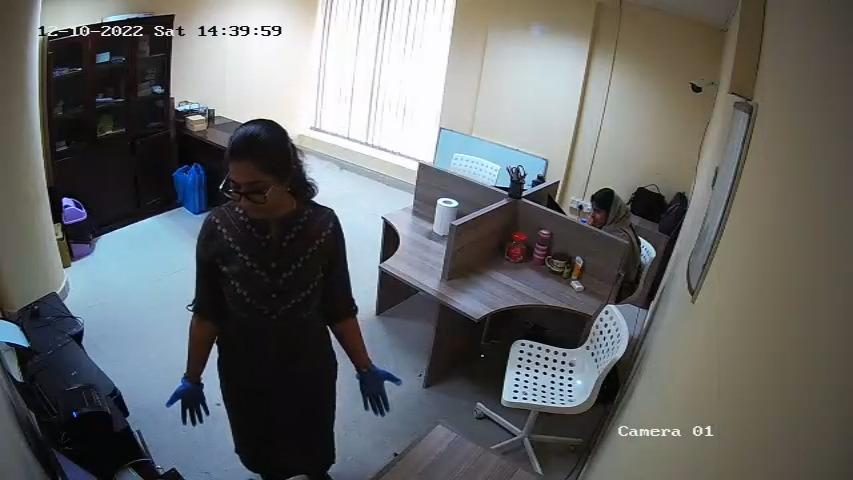gloves: (162, 375, 214, 429), (353, 363, 404, 416)
